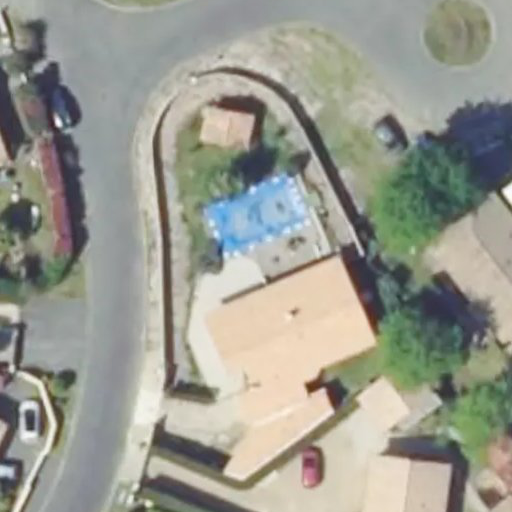pool: (205, 176, 309, 257)
